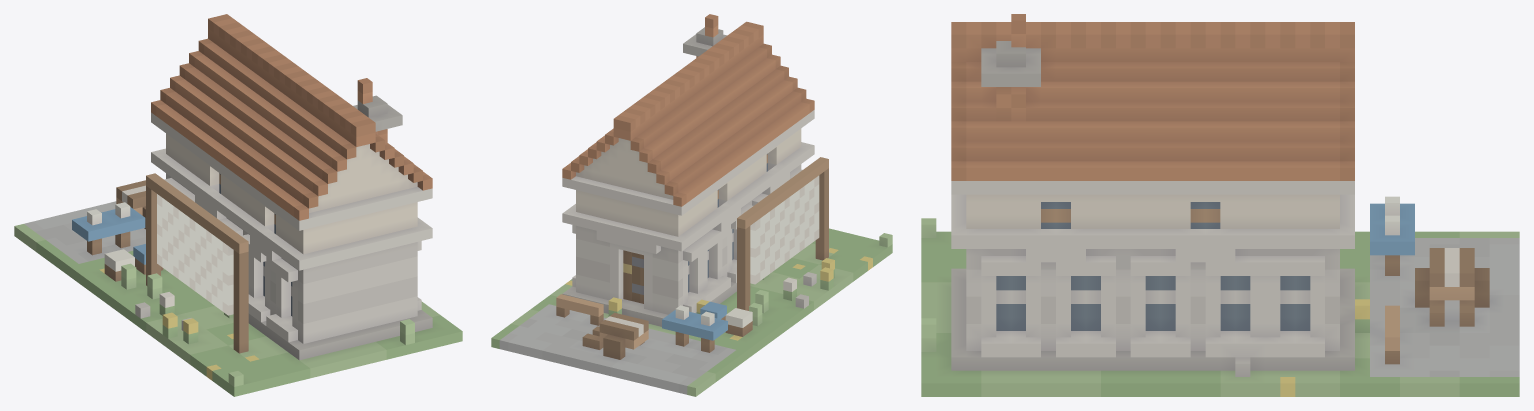
The model's file is lace_maker.glb.
3 renders of one model, left to right at view 1: azimuth 30°, elevation 25°; view 2: azimuth 150°, elevation 25°; view 3: azimuth 270°, elevation 25°, orthographic. The views are drawn at different scales.
Visible parts, largest first — view 1: lace_maker; view 2: lace_maker; view 3: lace_maker.
Part boxes in pixels (x1,y1,x2,y2): lace_maker: (14,14,462,396); lace_maker: (491,14,892,396); lace_maker: (921,14,1519,396).
Size of the model in its own units: 3 by 3.12 by 5.
